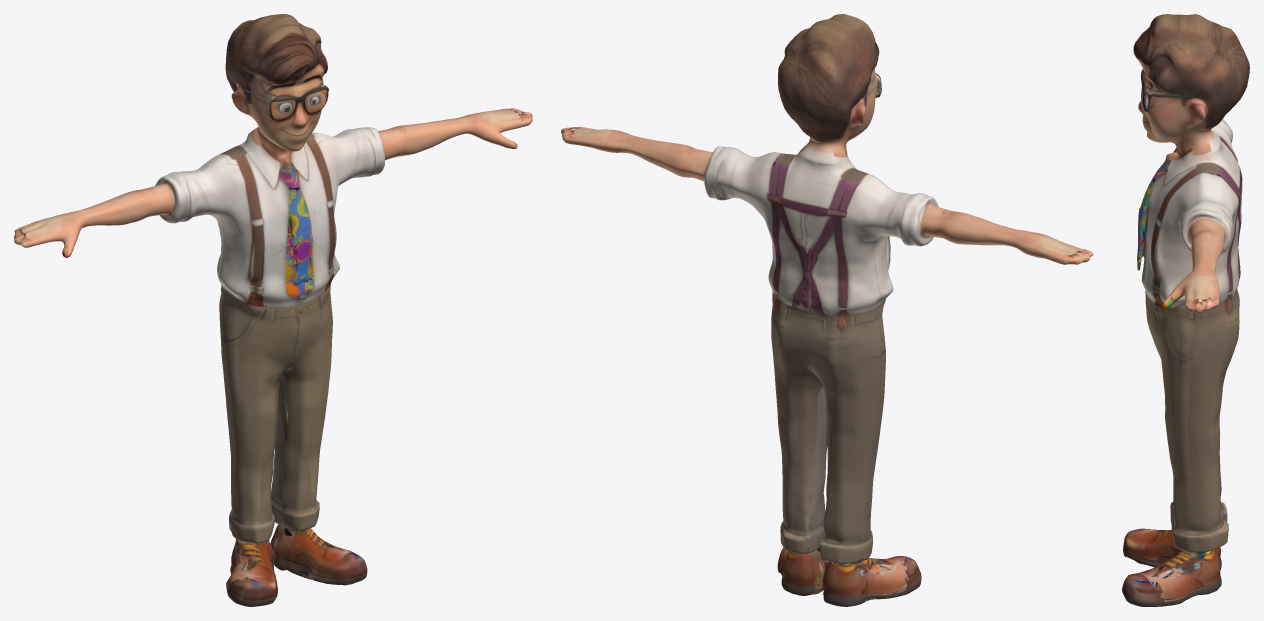
Rendered from agent_animation_bundle_generated.glb.
3 renders of one model, left to right at view 1: azimuth 30°, elevation 25°; view 2: azimuth 150°, elevation 25°; view 3: azimuth 270°, elevation 25°, orthographic.
Bounding box in the file's own units: 1.95 × 2 × 0.414.
1 material, 1 textured.
